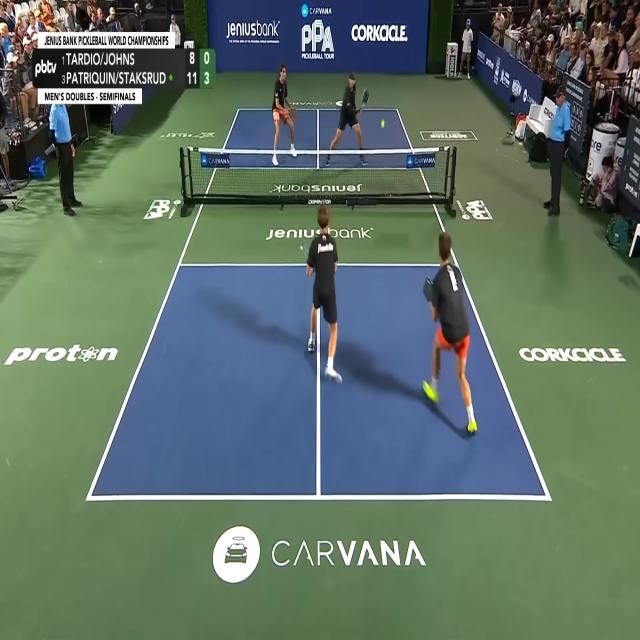ball: (381, 118, 385, 129)
